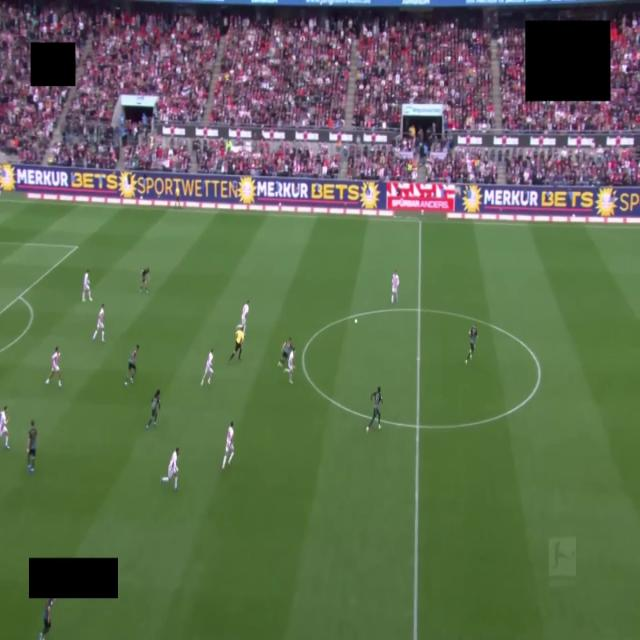ball: (355, 319, 357, 323)
player: (366, 387, 382, 432), (161, 448, 178, 490), (39, 599, 54, 639), (46, 347, 61, 386), (125, 345, 139, 385), (146, 390, 160, 429), (222, 421, 233, 469), (27, 420, 37, 472), (92, 304, 104, 343), (465, 324, 477, 363), (201, 349, 213, 385), (278, 337, 292, 367), (284, 347, 295, 383), (0, 406, 9, 449), (82, 270, 92, 302), (391, 271, 399, 303), (241, 300, 249, 332), (140, 268, 149, 293)
